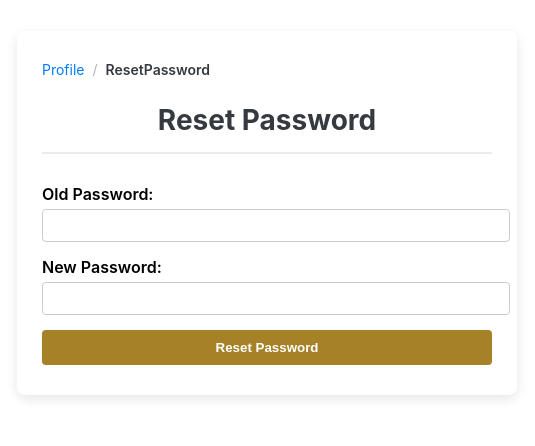
Scenario: shows error when API fails
The image size is (535, 446).
In the password field labelled "Old Password:": [276, 226] box [42, 209, 510, 242], type "oldPass1!"
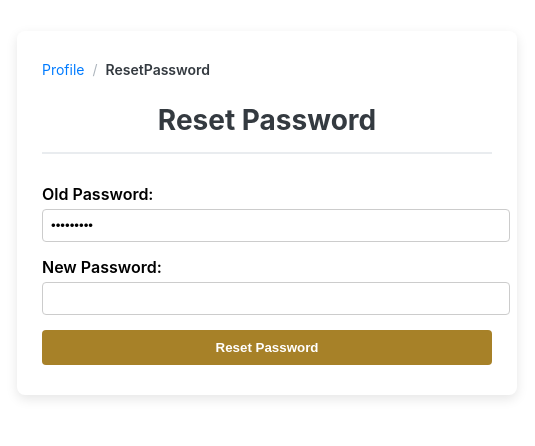
In the password field labelled "New Password:": [276, 298] box [42, 282, 510, 315], type "NewPass1!"
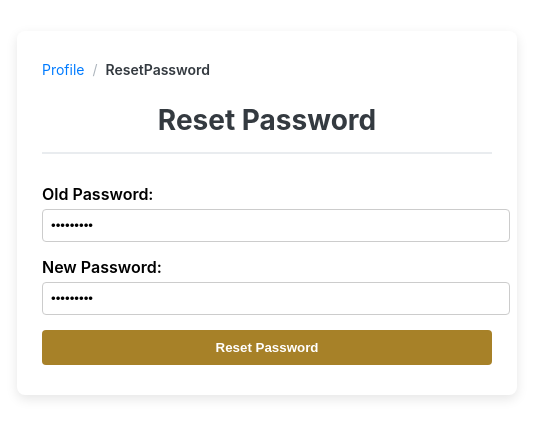
Click the button "Reset Password": [267, 348] box [42, 330, 492, 365]
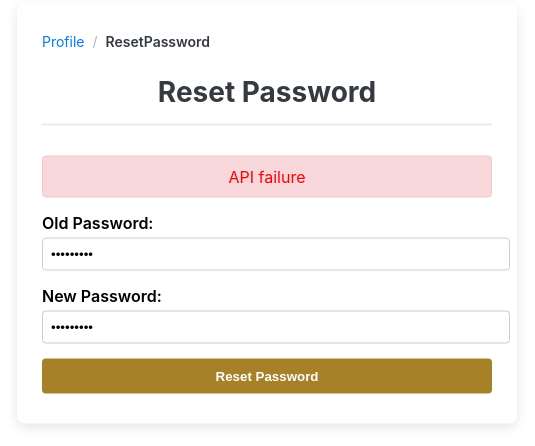
Expected: the text "API failure" is shown, [42, 156, 492, 198]
